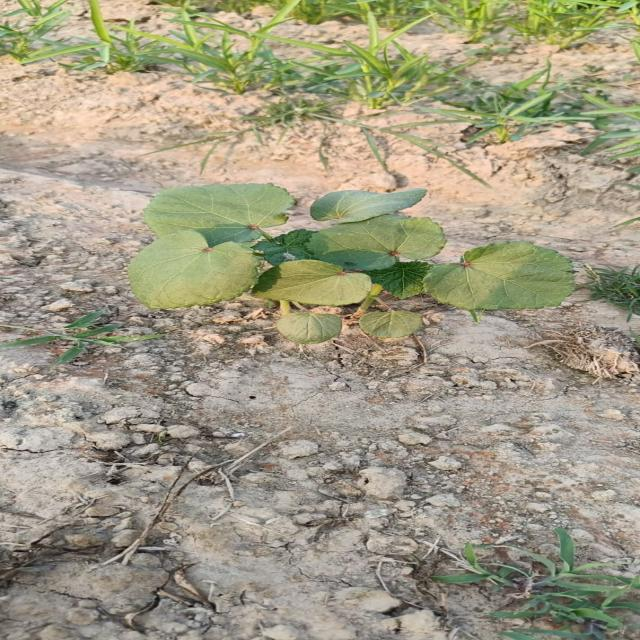plant: (127, 183, 574, 343)
